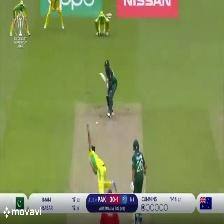ball: (95, 120, 99, 126)
batsman: (98, 60, 119, 120)
